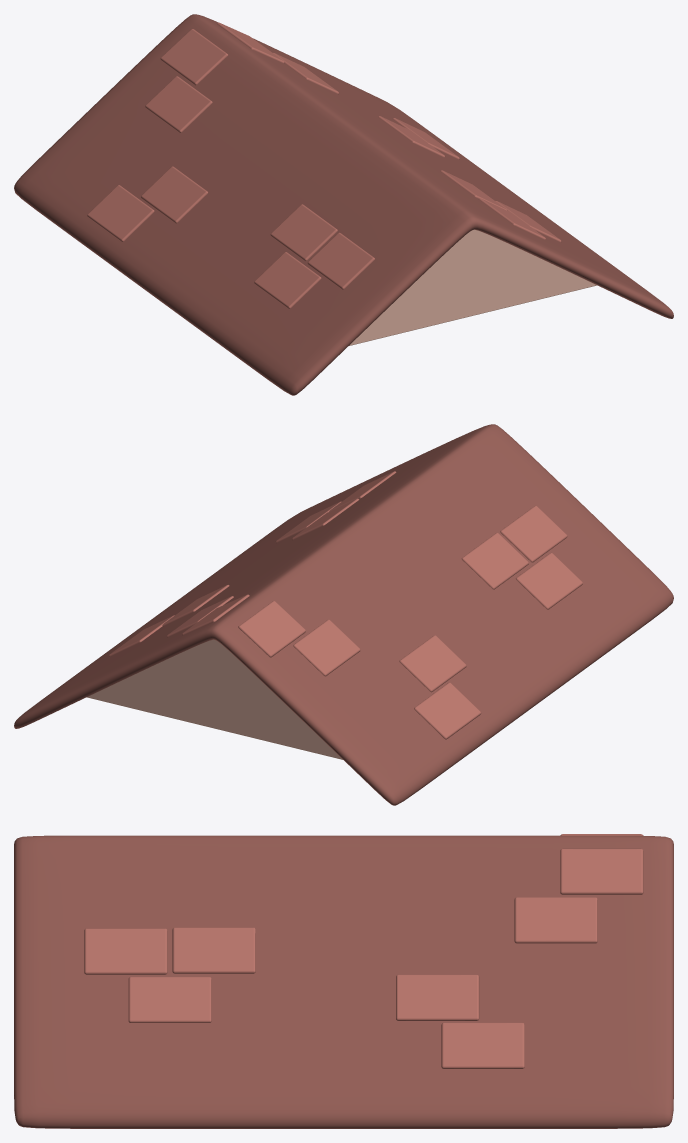
File: rooftop.fbx
The picture shows the model from 3 angles, top to bottom: view 1: azimuth 30°, elevation 25°; view 2: azimuth 150°, elevation 25°; view 3: azimuth 270°, elevation 25°; orthographic projection. The views are drawn at different scales.
Parts seen in each view (by area): view 1: Roof.003_Plane.032, House.002_Plane.015, Shingle.019_Plane.030, Shingle.014_Plane.029, Shingle.017_Plane.029, Shingle.018_Plane.030, Shingle.015_Plane.029, Shingle.020_Plane.030, Shingle.016_Plane.029; view 2: Roof.003_Plane.032, House.002_Plane.015, Shingle.019_Plane.030, Shingle.015_Plane.029, Shingle.017_Plane.029, Shingle.020_Plane.030, Shingle.018_Plane.030, Shingle.014_Plane.029, Shingle.016_Plane.029; view 3: Roof.003_Plane.032, Shingle.019_Plane.030, Shingle.015_Plane.029, Shingle.014_Plane.029, Shingle.018_Plane.030, Shingle.020_Plane.030, Shingle.017_Plane.029, Shingle.016_Plane.029.
Part boxes in pixels (x1,y1,x2,y2): Roof.003_Plane.032: (14, 14, 673, 395); House.002_Plane.015: (349, 229, 596, 345); Shingle.019_Plane.030: (160, 22, 284, 85); Shingle.014_Plane.029: (307, 198, 545, 289); Shingle.017_Plane.029: (141, 116, 444, 223); Shingle.018_Plane.030: (145, 52, 338, 132); Shingle.015_Plane.029: (270, 170, 507, 260); Shingle.020_Plane.030: (87, 118, 459, 241); Shingle.016_Plane.029: (254, 200, 561, 308); Roof.003_Plane.032: (14, 424, 673, 805); House.002_Plane.015: (87, 639, 342, 759); Shingle.019_Plane.030: (182, 594, 305, 657); Shingle.015_Plane.029: (292, 498, 528, 589); Shingle.017_Plane.029: (162, 584, 466, 692); Shingle.020_Plane.030: (109, 615, 481, 739); Shingle.018_Plane.030: (166, 596, 360, 676); Shingle.014_Plane.029: (329, 471, 567, 562); Shingle.016_Plane.029: (275, 501, 582, 609); Roof.003_Plane.032: (14, 835, 673, 1128); Shingle.019_Plane.030: (560, 834, 643, 894); Shingle.015_Plane.029: (172, 927, 255, 973); Shingle.014_Plane.029: (84, 928, 167, 974); Shingle.018_Plane.030: (514, 897, 597, 943); Shingle.020_Plane.030: (441, 1022, 524, 1068); Shingle.017_Plane.029: (396, 974, 479, 1020); Shingle.016_Plane.029: (128, 977, 211, 1022).
Bounding box in the file's own units: 478 × 182 × 611.
